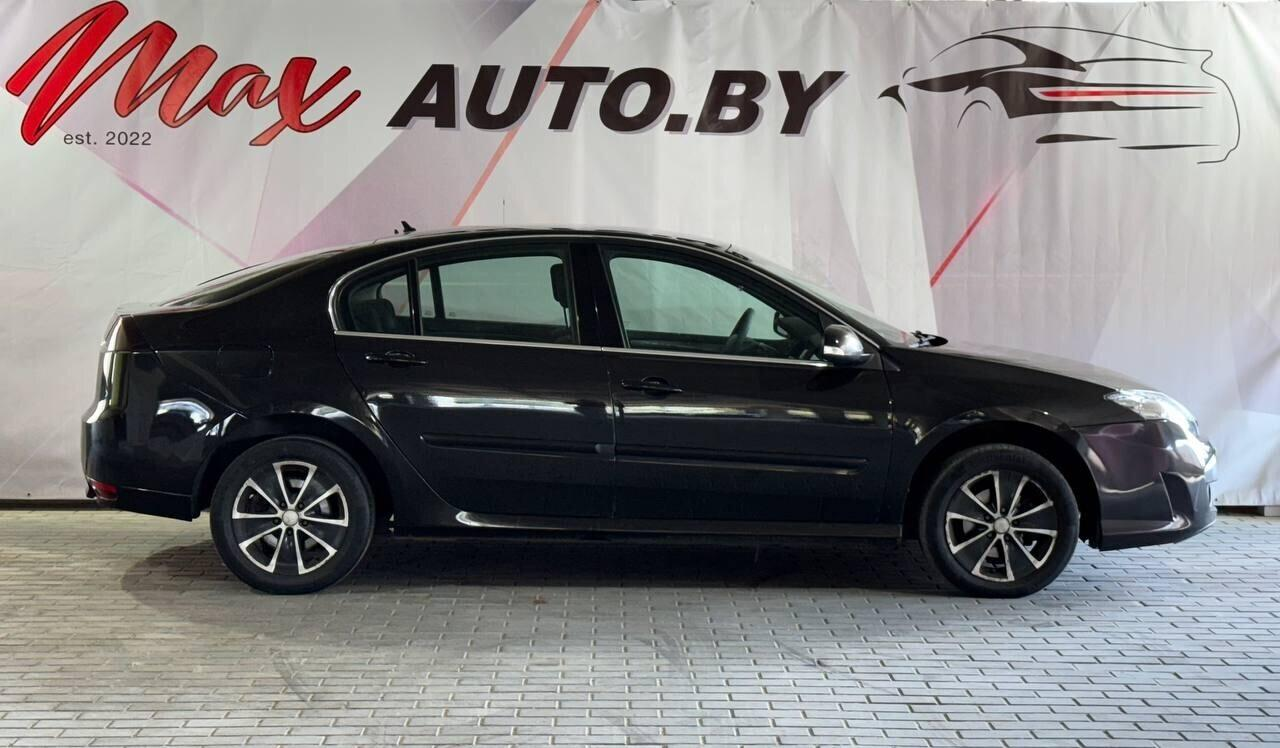Laguna_2007-2011: (81, 222, 1217, 596)
